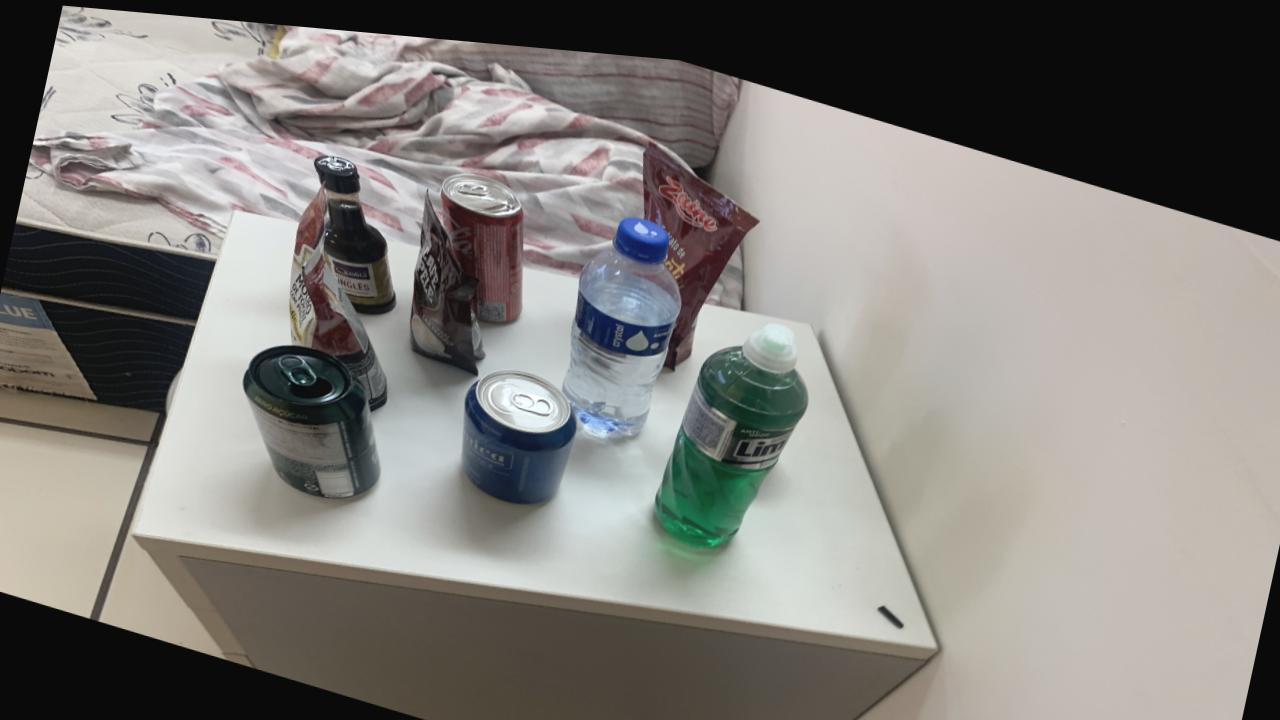Coke-Drinks: (440, 164, 524, 313)
Detergent-Cleanup_Items: (654, 308, 808, 534)
English_Sauce-Pantry_Items: (314, 149, 395, 307)
Guarana_Can-Drinks: (243, 340, 381, 493)
Tomato_Sauce-Pantry_Items: (641, 130, 758, 356), (288, 184, 387, 402)
Tonic-Drinks: (460, 360, 577, 494)
Water_Bottle-Drinks: (562, 205, 681, 427)
